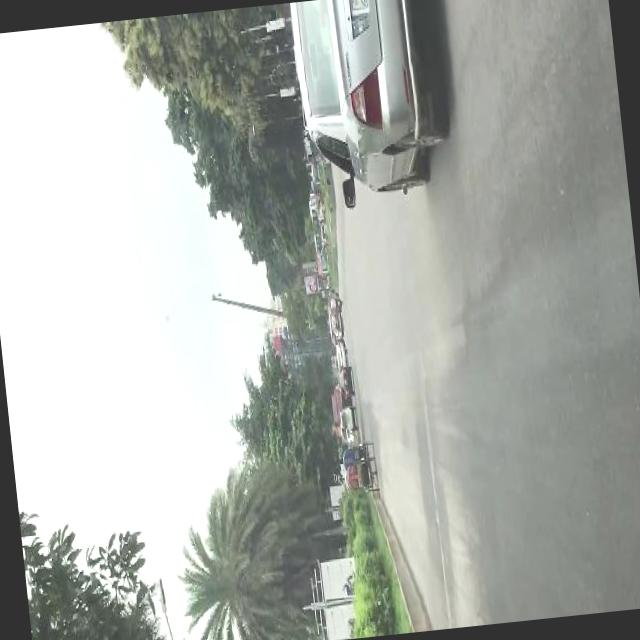car: (285, 0, 453, 208), (337, 366, 353, 392), (329, 307, 342, 330), (334, 346, 348, 363), (315, 196, 325, 219), (318, 221, 327, 238)
motorcycle: (343, 453, 379, 492), (338, 438, 374, 459), (308, 157, 326, 183), (326, 293, 342, 308)
truck: (338, 403, 354, 427)
